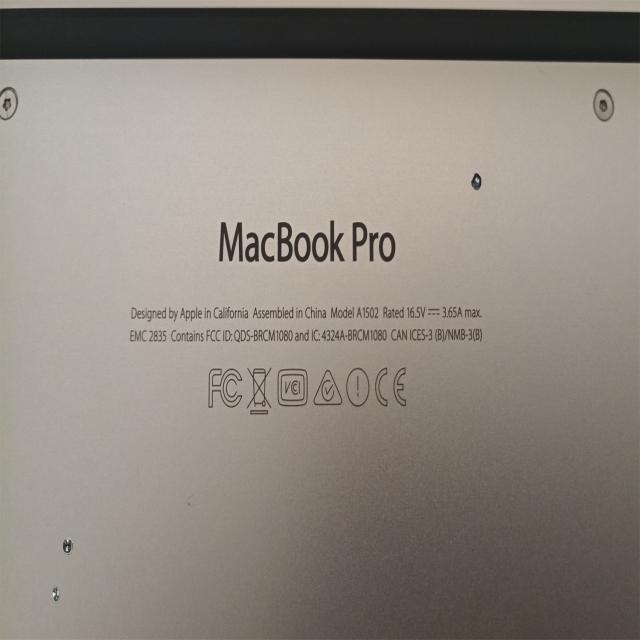lock: (63, 537, 73, 555), (50, 586, 60, 602)
missing_screw: (471, 173, 481, 190)
